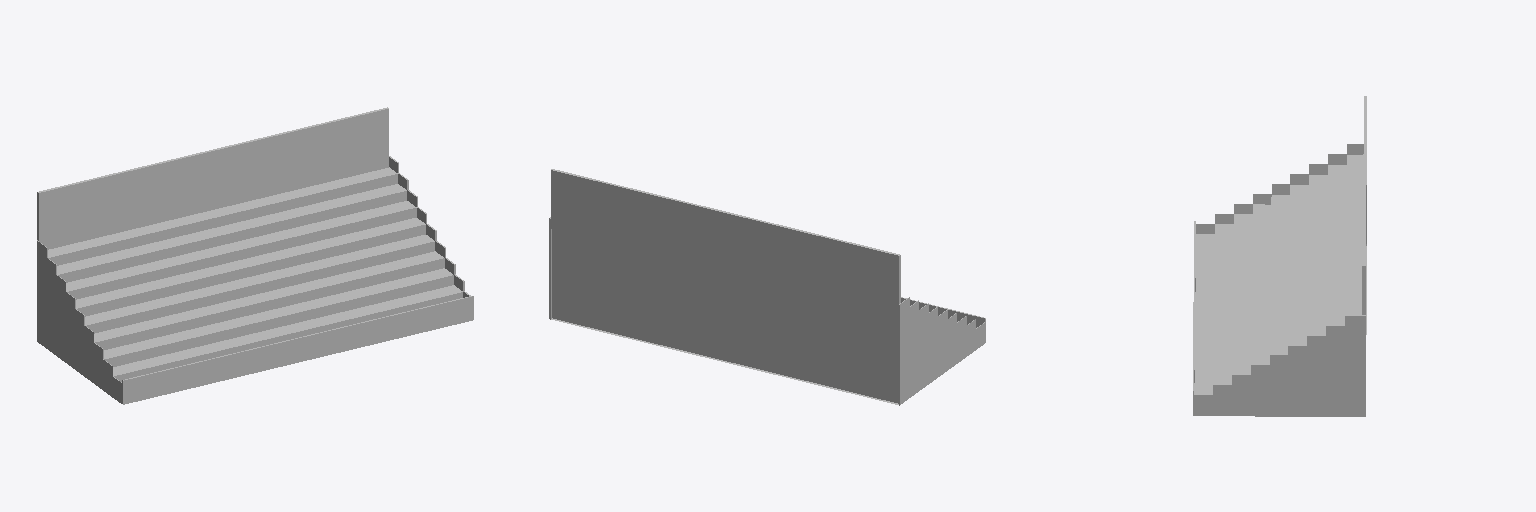
The model's file is gradas.obj.
The picture shows the model from 3 angles: view 1: azimuth 30°, elevation 25°; view 2: azimuth 150°, elevation 25°; view 3: azimuth 270°, elevation 25°; orthographic projection.
Visible parts, largest first — view 1: Cube; view 2: Cube; view 3: Cube.
Part boxes in pixels (bbox=[...]): Cube: bbox=[37, 107, 473, 404]; Cube: bbox=[549, 169, 985, 405]; Cube: bbox=[1193, 96, 1366, 416].
Bounding box in the file's own units: 22.73 × 9.23 × 9.78.